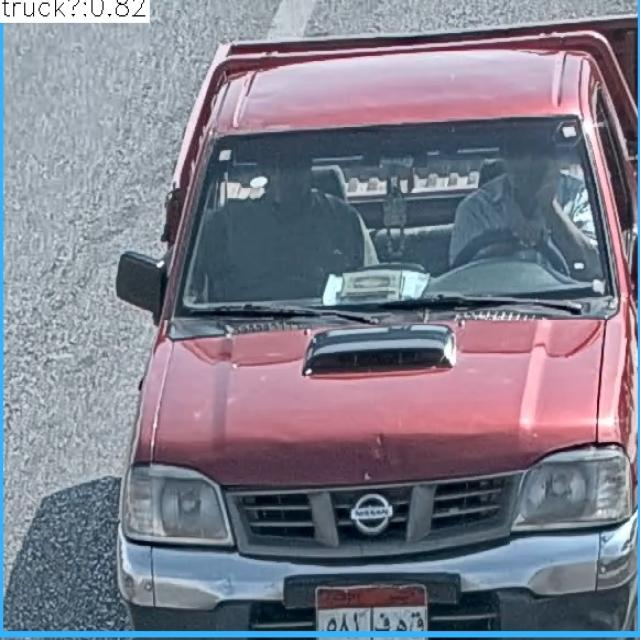windshield: (182, 117, 606, 306)
